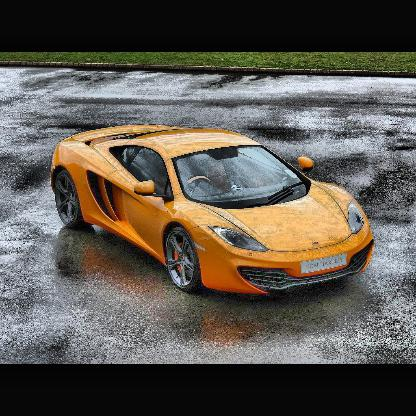McLaren MP4-12C Coupe 2012: (51, 124, 378, 300)
